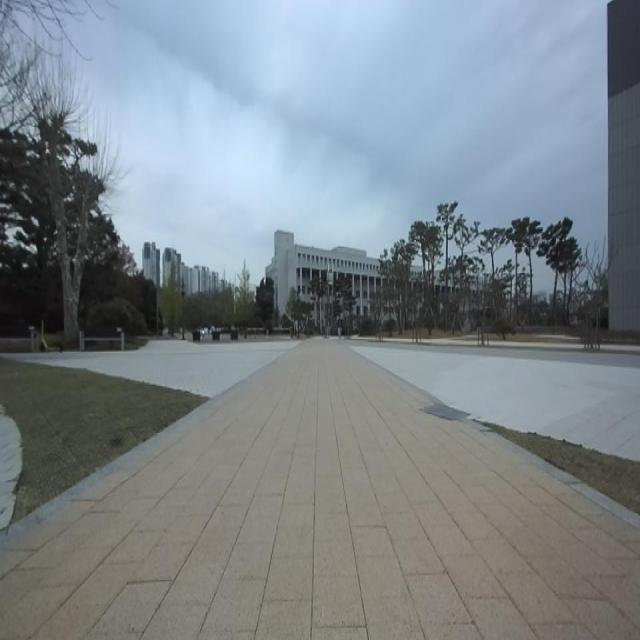sidewalk: (0, 339, 640, 638)
